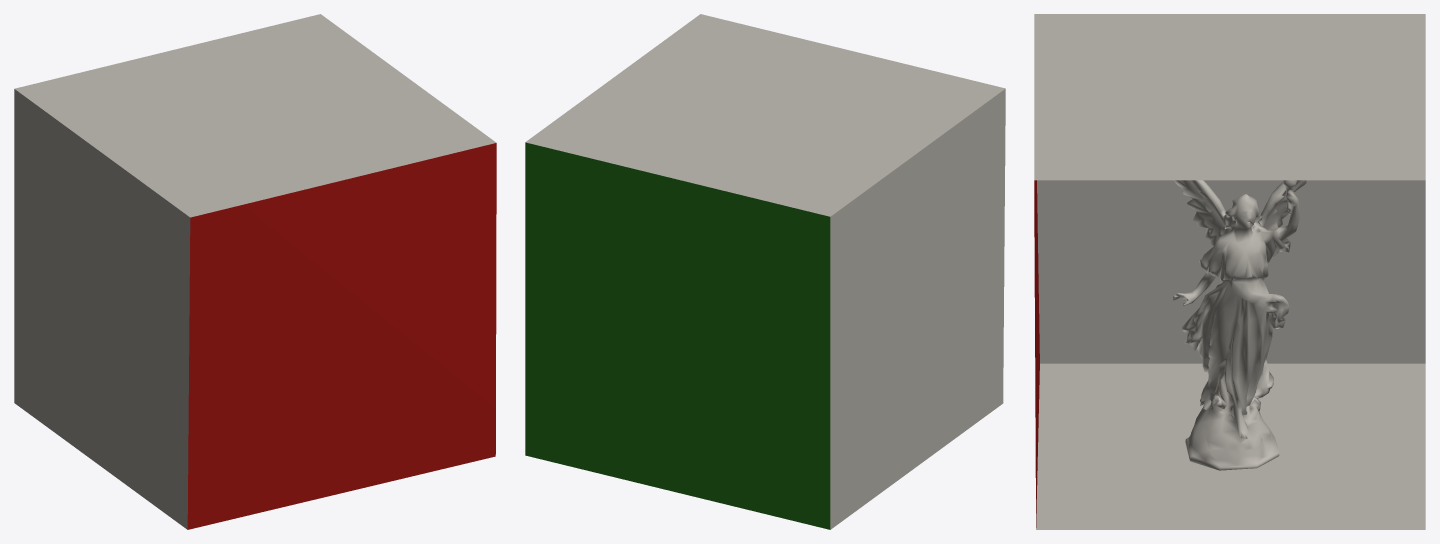
The model's file is CornellBox.obj.
The picture shows the model from 3 angles, left to right: view 1: azimuth 30°, elevation 25°; view 2: azimuth 150°, elevation 25°; view 3: azimuth 270°, elevation 25°; orthographic projection. The views are drawn at different scales.
Visible parts, largest first — view 1: Object_5, Object_2, Object_3; view 2: Object_7, Object_2, Object_3; view 3: Object_3, Object_4, Object_2, lucy, Object_5.
Part boxes in pixels (<box>): Object_5: <box>187,143,496,529</box>; Object_2: <box>14,89,190,529</box>; Object_3: <box>14,14,496,217</box>; Object_7: <box>525,142,830,529</box>; Object_2: <box>830,89,1005,529</box>; Object_3: <box>525,14,1005,216</box>; Object_3: <box>1034,14,1425,180</box>; Object_4: <box>1036,363,1425,529</box>; Object_2: <box>1037,180,1425,363</box>; lucy: <box>1172,180,1308,470</box>; Object_5: <box>1034,180,1039,527</box>.
Bounding box in the file's own units: 2.03 × 2 × 2.02.
